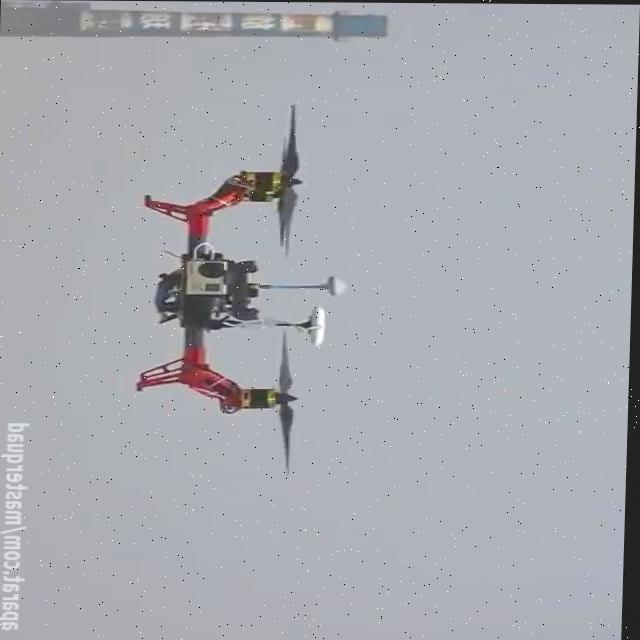drone: (132, 100, 354, 479)
